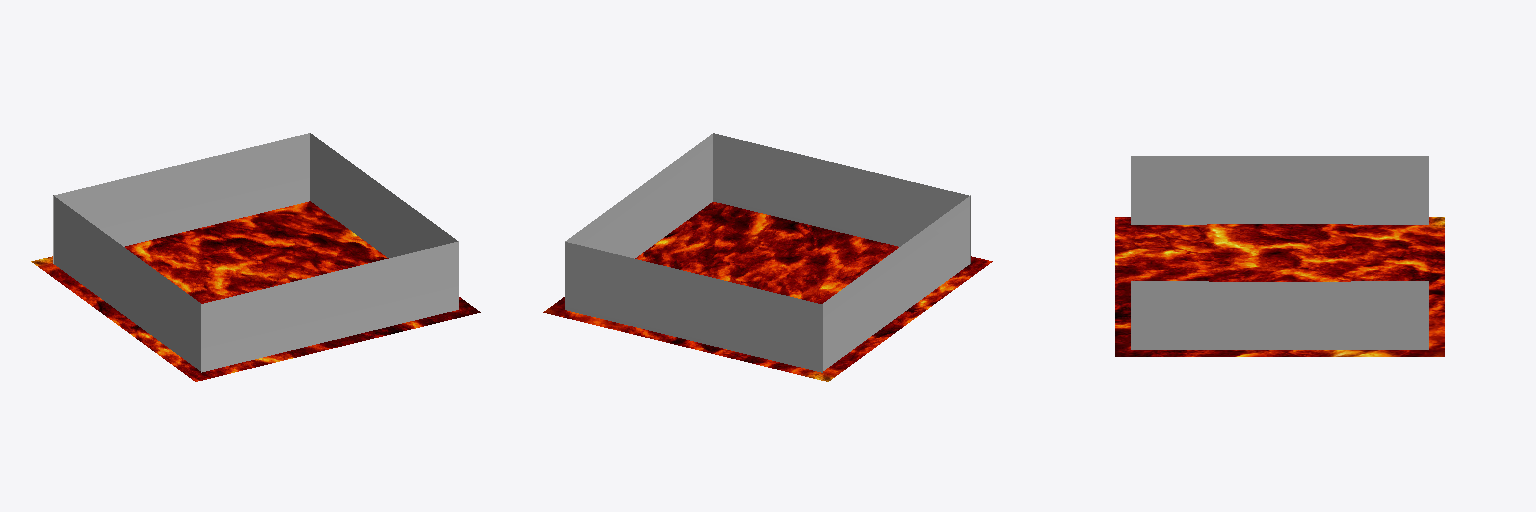
3 views of the same model, side by side, from view 1: azimuth 30°, elevation 25°; view 2: azimuth 150°, elevation 25°; view 3: azimuth 270°, elevation 25° (orthographic).
Visible parts, largest first — view 1: 曲面片, 曲面片.001, 曲面片.002, 曲面片.003, 曲面片.004; view 2: 曲面片, 曲面片.002, 曲面片.001, 曲面片.003, 曲面片.004; view 3: 曲面片, 曲面片.004, 曲面片.003.
Part boxes in pixels (x1,y1,x2,y2): 曲面片: (31,201,480,381); 曲面片.001: (201,241,458,372); 曲面片.002: (53,133,309,263); 曲面片.003: (53,195,200,370); 曲面片.004: (310,133,457,257); 曲面片: (543,202,992,381); 曲面片.002: (565,242,822,372); 曲面片.001: (713,133,970,263); 曲面片.003: (823,195,970,370); 曲面片.004: (565,134,712,258); 曲面片: (1115,217,1444,356); 曲面片.004: (1131,281,1428,349); 曲面片.003: (1131,156,1428,224).
Size of the model in its own units: 667 by 167 by 667.
Materials: 9 (2 with a texture image).